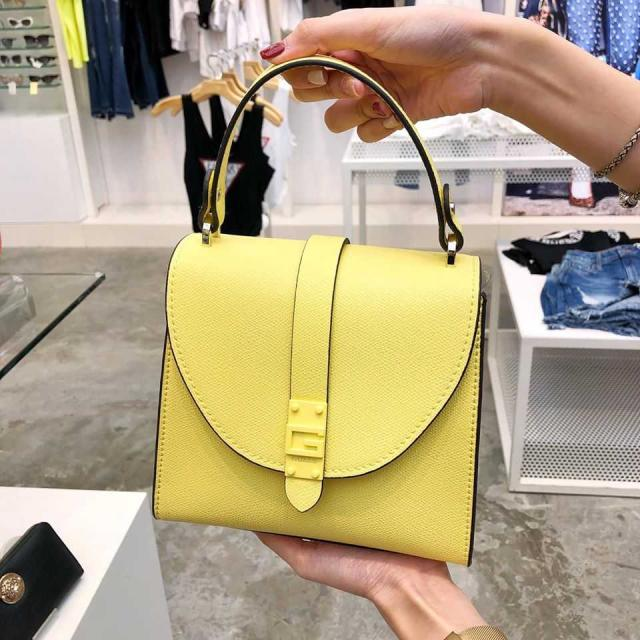Handbag: (149, 213, 491, 576)
